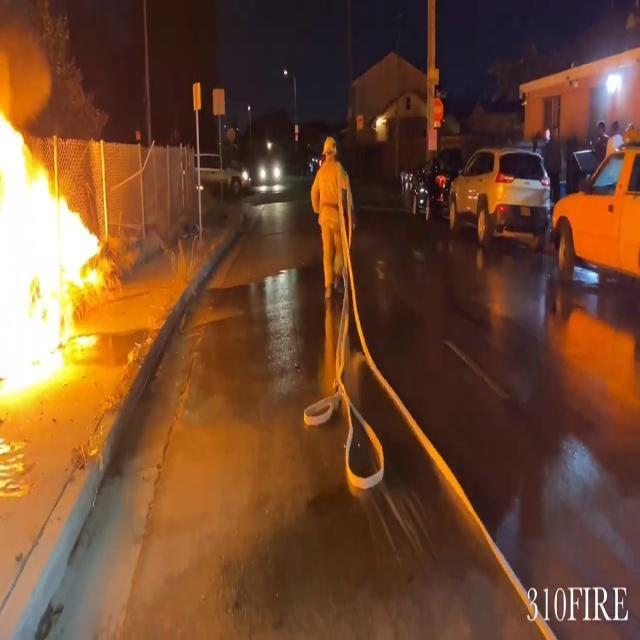Fire: (0, 70, 102, 405)
